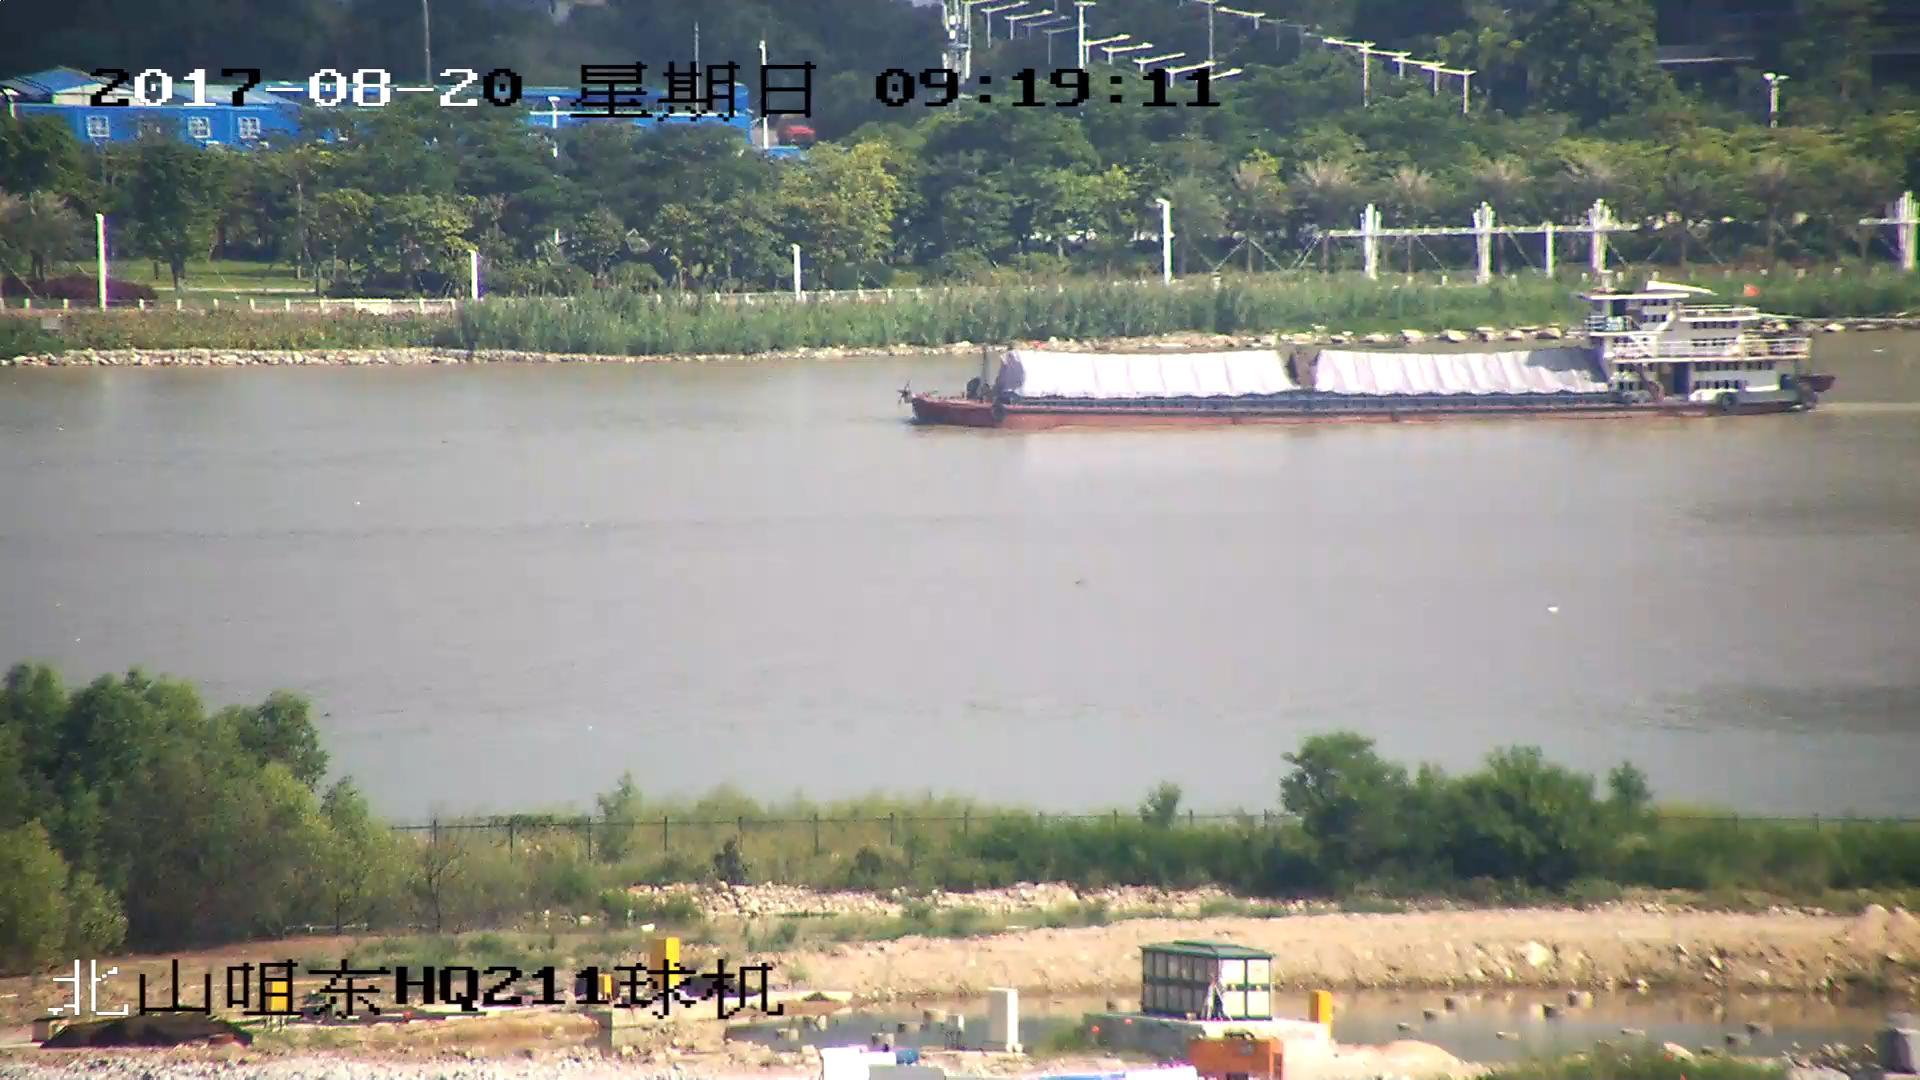Ship: (909, 284, 1832, 435)
